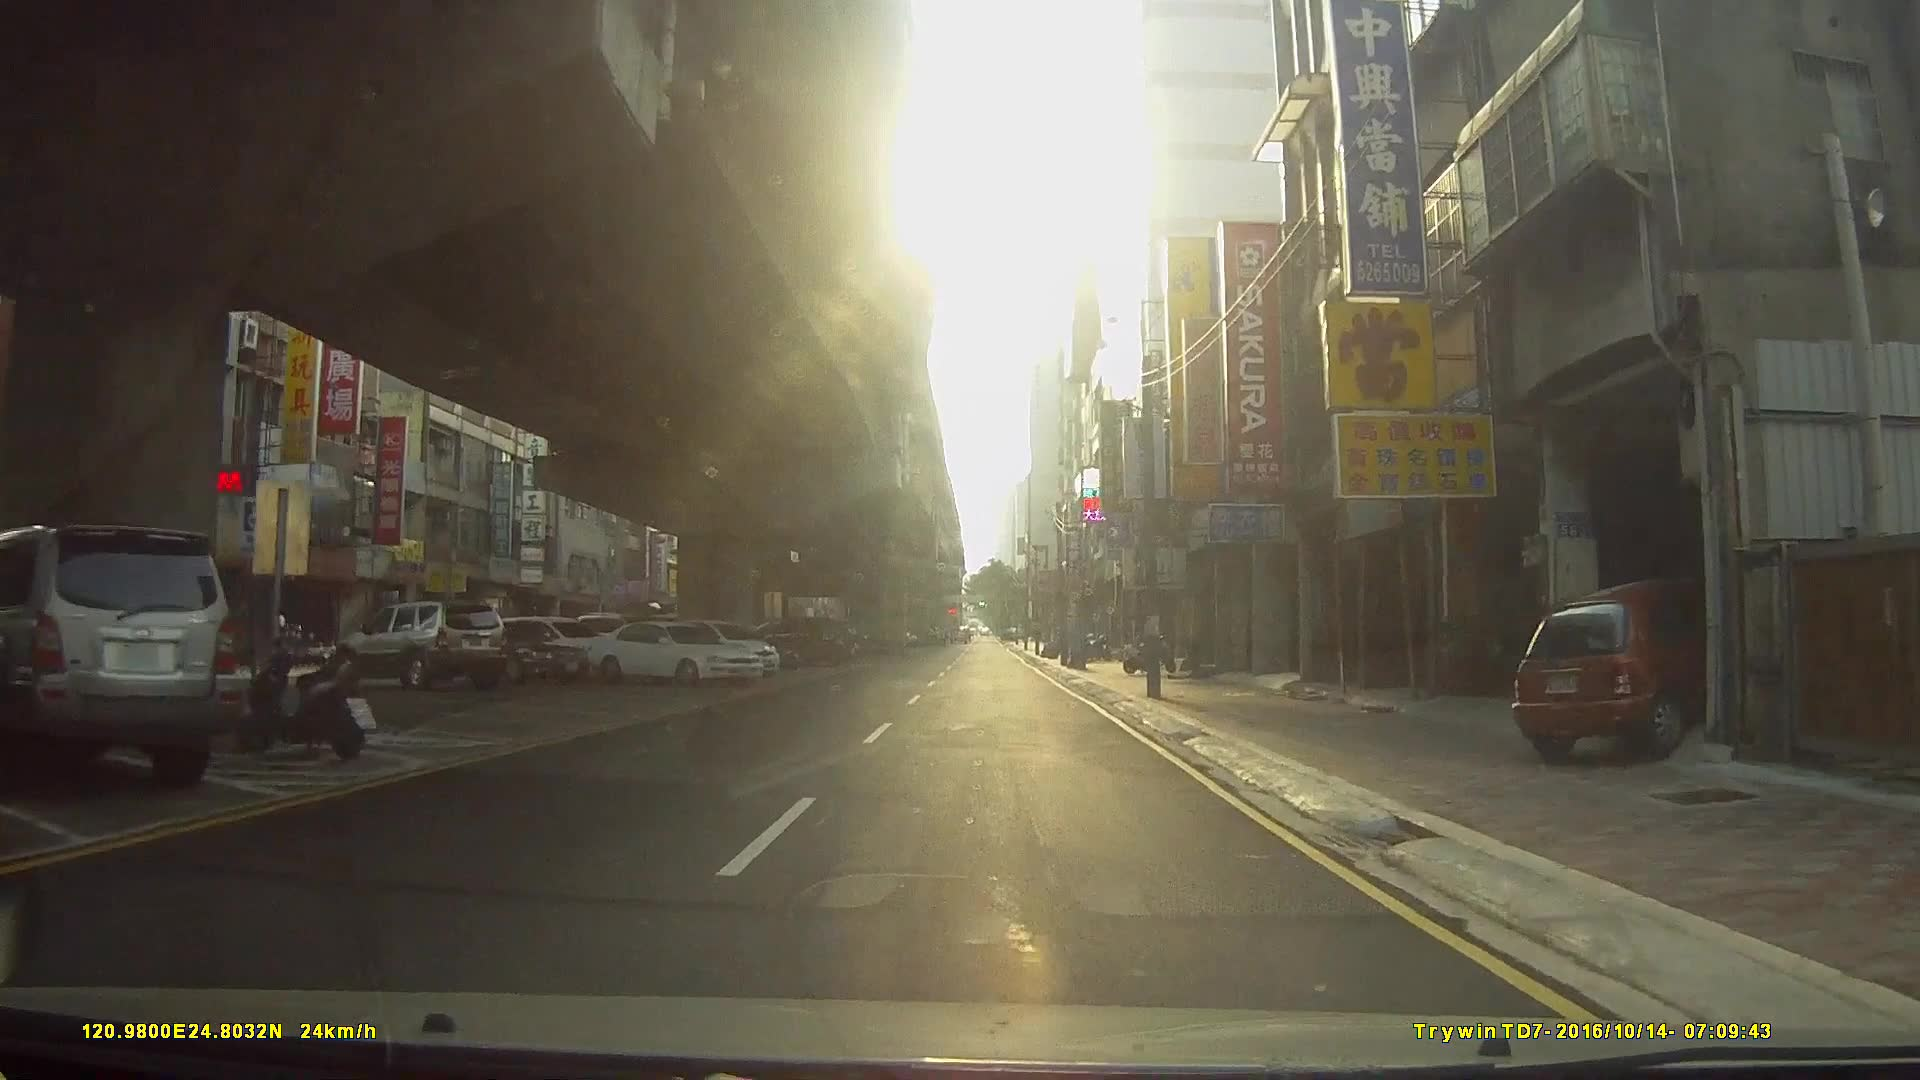vehicle: (0, 525, 237, 793), (1510, 574, 1743, 762), (332, 599, 509, 690), (413, 616, 589, 684), (584, 622, 767, 686)
